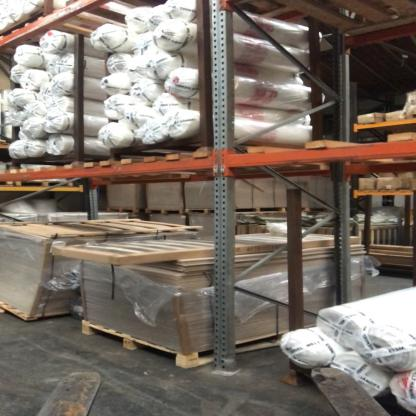vertical_damage: (204, 346, 245, 378)
